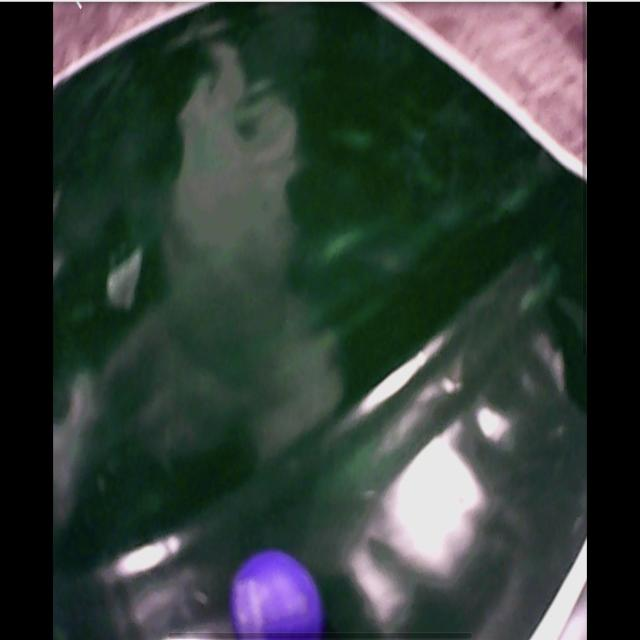ball: (230, 551, 324, 638)
